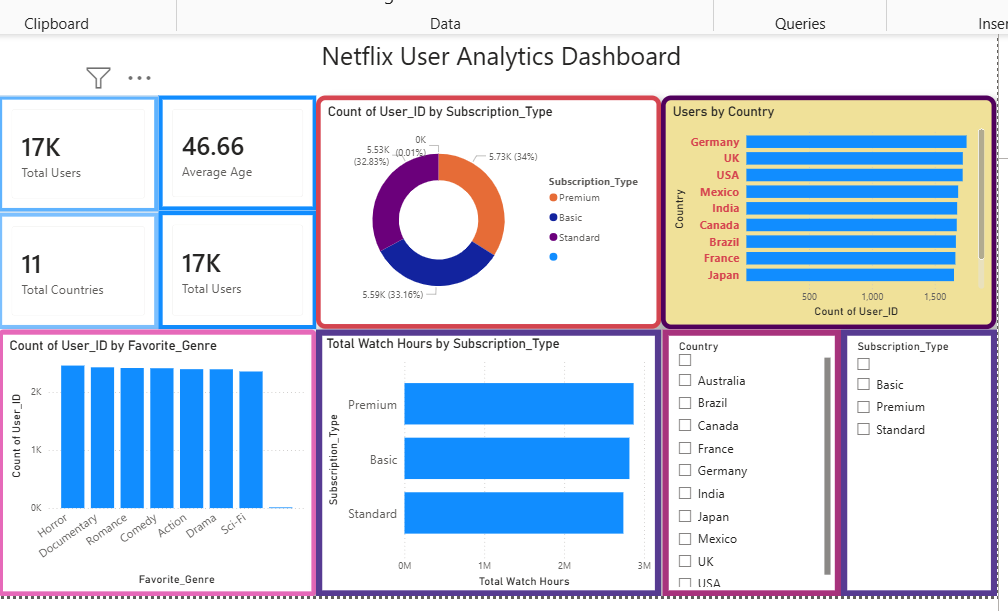

What the dashboard file says about the page in this screenshot:
{"tool":"powerbi","page":{"name":"Page 1","canvas":[1280,720],"ordinal":0},"visuals":[{"type":"textbox","box":[9.4,0,1269.9,66.1],"z":0},{"type":"cardVisual","fields":{"Data":["netflix_users.Total Countries"]},"box":[0,228.7,206,149.3],"z":1000},{"type":"cardVisual","fields":{"Data":["netflix_users.Total Users"]},"box":[0,79.4,206,149.3],"z":2000},{"type":"cardVisual","fields":{"Data":["netflix_users.Average Age"]},"box":[206,79.4,202.2,147.4],"z":3000},{"type":"cardVisual","fields":{"Data":["netflix_users.Total Watch Hours"]},"box":[206,226.8,202.2,151.2],"z":4000},{"type":"donutChart","title":"Subscription Distribution","fields":{"Category":["netflix_users.Subscription_Type"],"Y":["CountNonNull(netflix_users.User_ID)"]},"box":[408.2,79.4,442.2,298.6],"z":5000},{"type":"clusteredBarChart","title":"Users by Country","fields":{"Category":["netflix_users.Country"],"Y":["CountNonNull(netflix_users.User_ID)"]},"box":[849.7,78.3,429.6,299.8],"z":6000},{"type":"clusteredColumnChart","title":"Favorite Genre Distribution","fields":{"Category":["netflix_users.Favorite_Genre"],"Y":["CountNonNull(netflix_users.User_ID)"]},"box":[0,378,408.2,342],"z":7000},{"type":"clusteredBarChart","title":"Watch Hours by Subscription","fields":{"Category":["netflix_users.Subscription_Type"],"Y":["netflix_users.Total Watch Hours"]},"box":[408,378,442,342],"z":8000},{"type":"slicer","fields":{"Values":["netflix_users.Country"]},"box":[849.7,378.1,229.1,341.8],"z":9000},{"type":"slicer","fields":{"Values":["netflix_users.Subscription_Type"]},"box":[1079,378,200,342],"z":10000}]}

Visuals, with their boxes in screenshot pixels (x1, y1, x2, y2):
textbox: box(7, 37, 994, 88)
cardVisual - netflix_users.Total Countries: box(0, 214, 160, 330)
cardVisual - netflix_users.Total Users: box(0, 98, 160, 214)
cardVisual - netflix_users.Average Age: box(160, 98, 317, 213)
cardVisual - netflix_users.Total Watch Hours: box(160, 213, 317, 330)
"Subscription Distribution" donutChart: box(317, 98, 660, 330)
"Users by Country" clusteredBarChart: box(660, 98, 994, 330)
"Favorite Genre Distribution" clusteredColumnChart: box(0, 330, 317, 596)
"Watch Hours by Subscription" clusteredBarChart: box(317, 330, 660, 596)
slicer - netflix_users.Country: box(660, 330, 838, 596)
slicer - netflix_users.Subscription_Type: box(838, 330, 993, 596)
